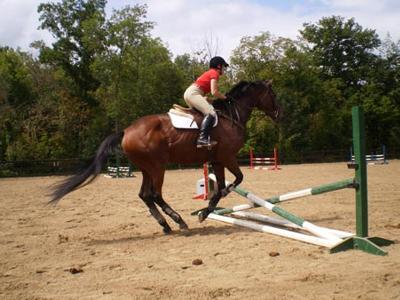person: (184, 56, 233, 150)
